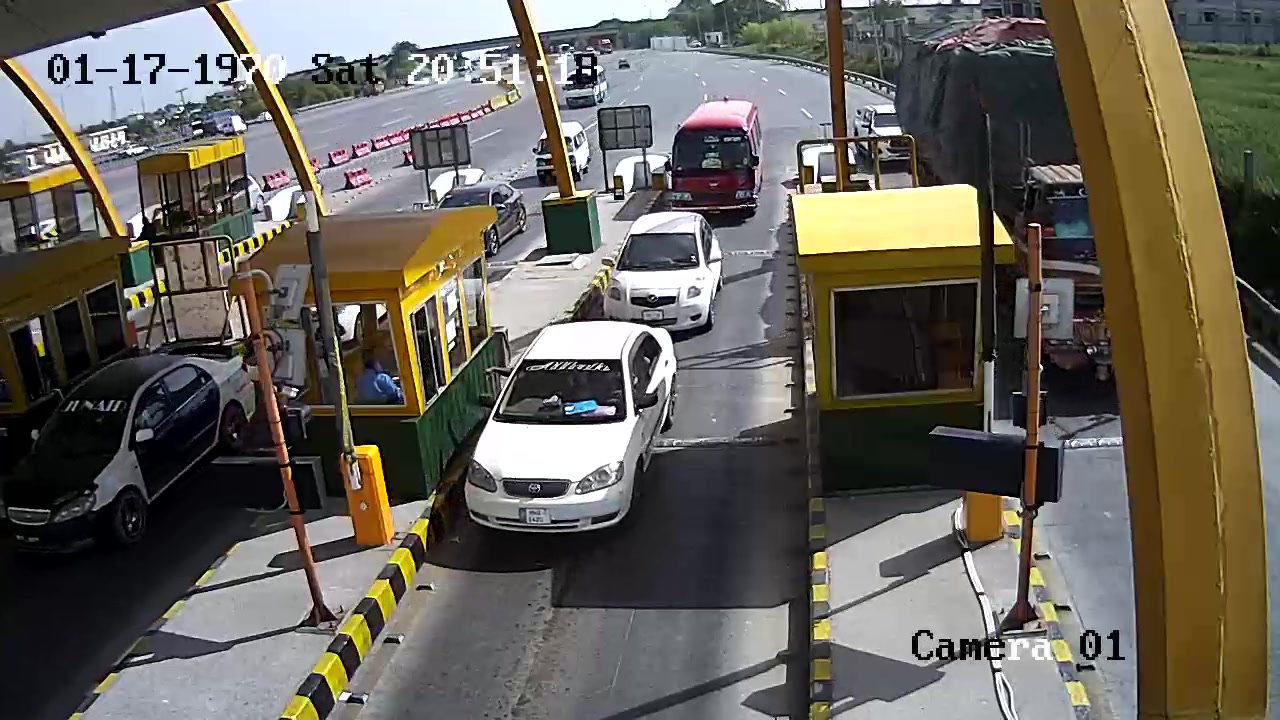F1: (462, 329, 677, 539), (603, 212, 723, 318)
